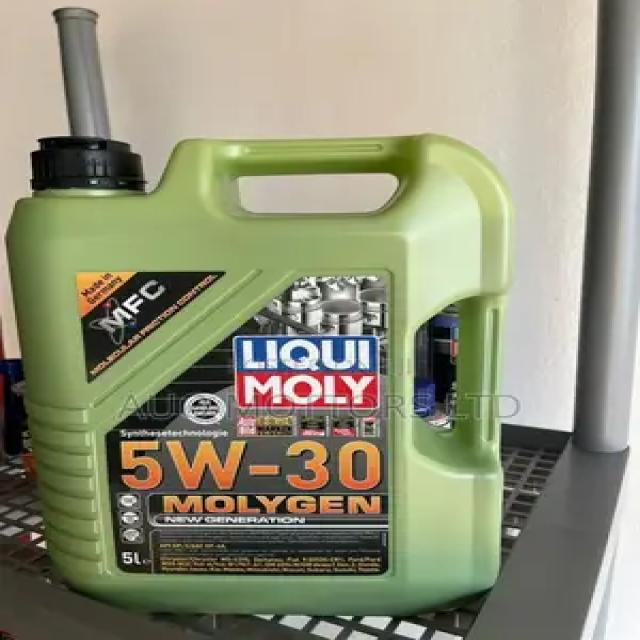motor_oil: (8, 131, 525, 615)
